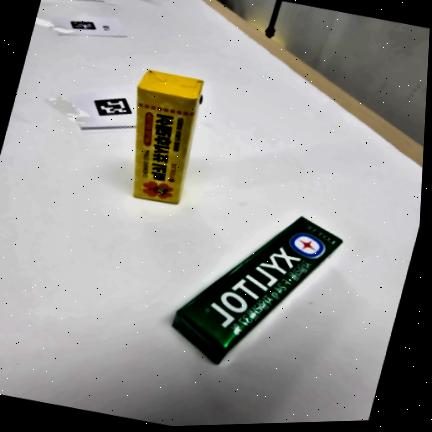gum_green: (173, 217, 342, 364)
gum_yellow: (133, 71, 203, 204)
